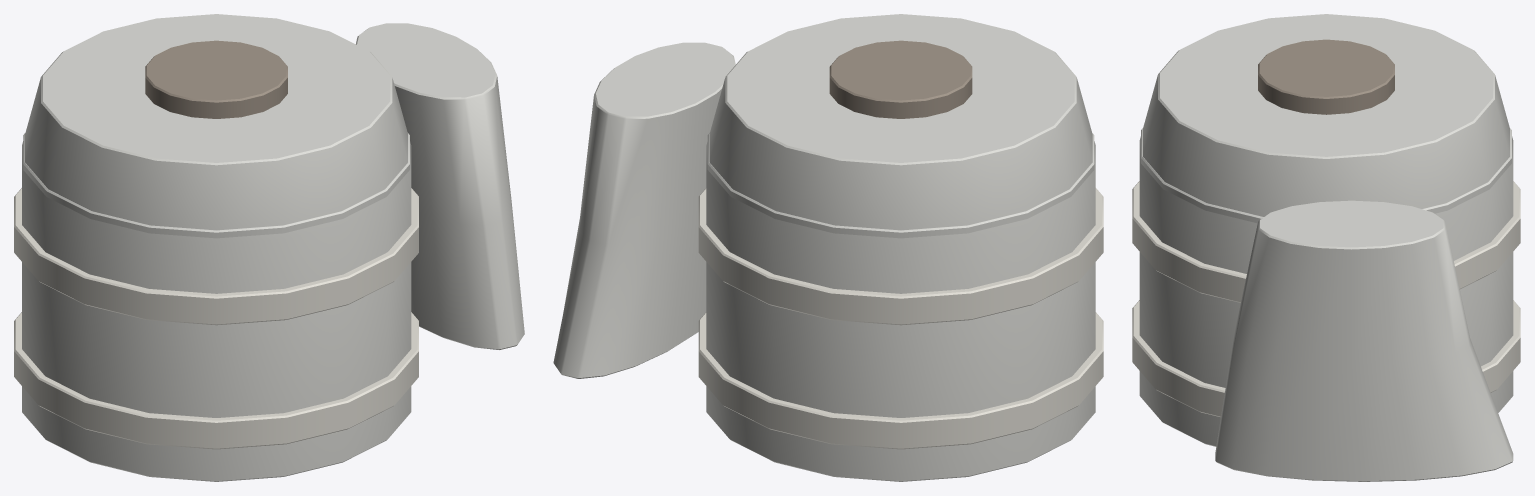
The model's file is IT_bandage.fbx.
The picture shows the model from 3 angles, left to right: view 1: azimuth 30°, elevation 25°; view 2: azimuth 150°, elevation 25°; view 3: azimuth 270°, elevation 25°; orthographic projection. The views are drawn at different scales.
Visible parts, largest first — view 1: IT_bandage; view 2: IT_bandage; view 3: IT_bandage.
Boxes of the visible parts, <box> form: IT_bandage: <box>14,14,524,481</box>; IT_bandage: <box>553,14,1103,481</box>; IT_bandage: <box>1132,14,1520,481</box>.
Size of the model in its own units: 0.4059 by 0.275 by 0.3073.
